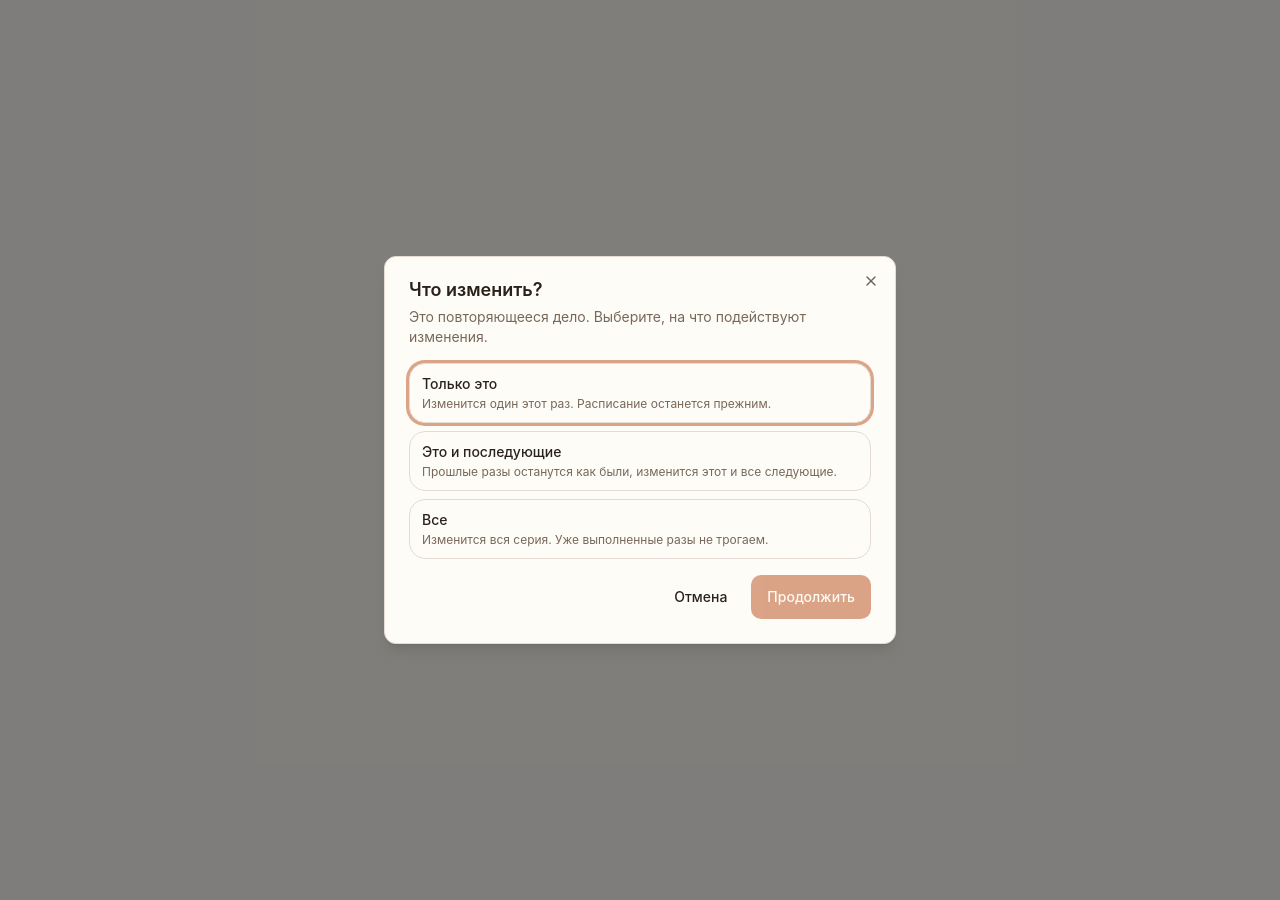
Scenario: edit scope prompt › asks which instances are affected before editing a recurring occurrence
Expected: the heading "Что изменить?" is shown, [409,279,542,300]
Expected: the radio button labelled "Это и последующие" is shown, [409,431,871,491]
Click the radio button labelled "Только это" at (640, 393), box [409,363,871,423]
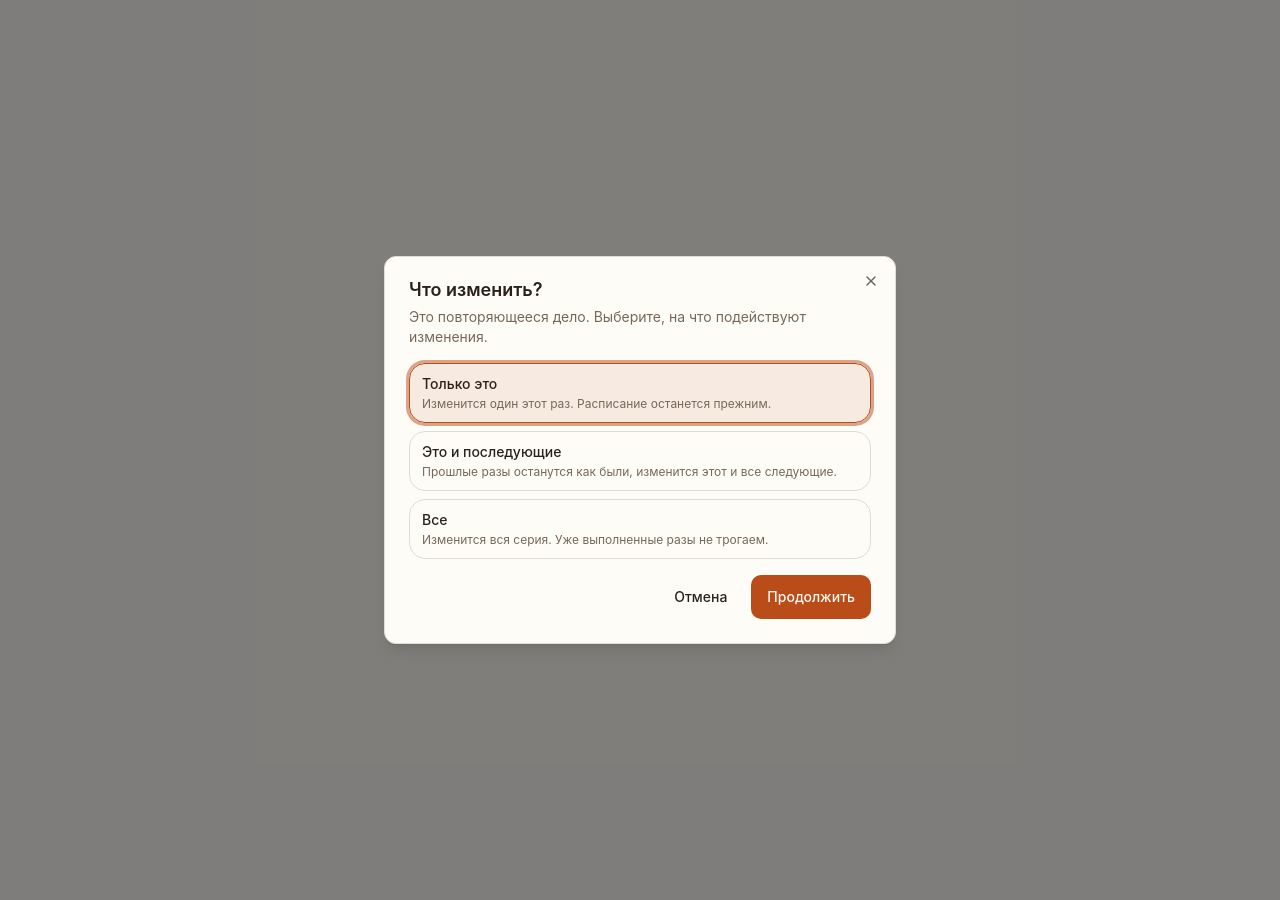
Expected: the button "Продолжить" is enabled
Click the button "Продолжить" at (811, 597), box [751,575,871,619]
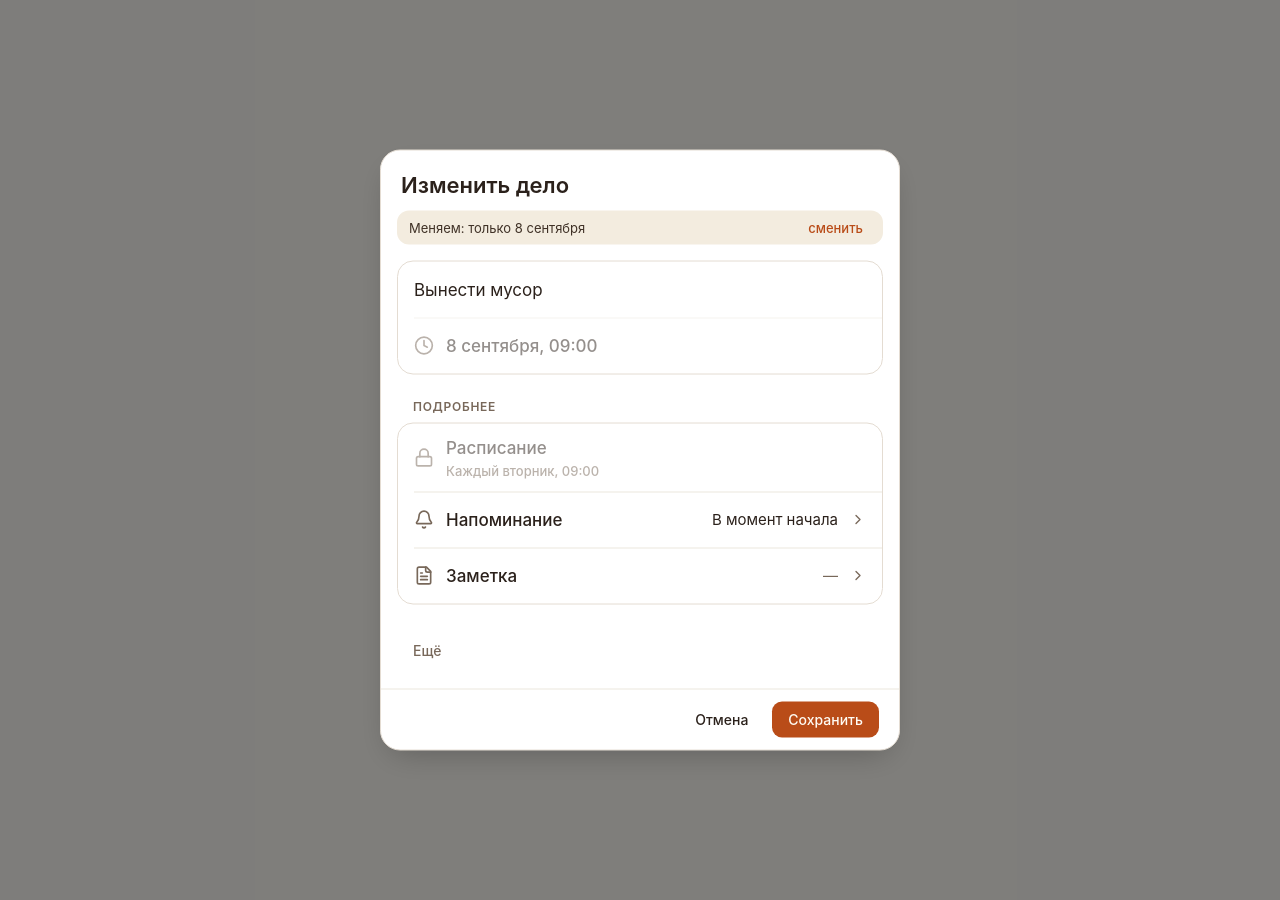
Expected: the field named "Что нужно сделать" is shown, [414,262,866,318]
